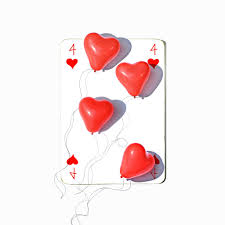four of hearts: (60, 39, 167, 183)
